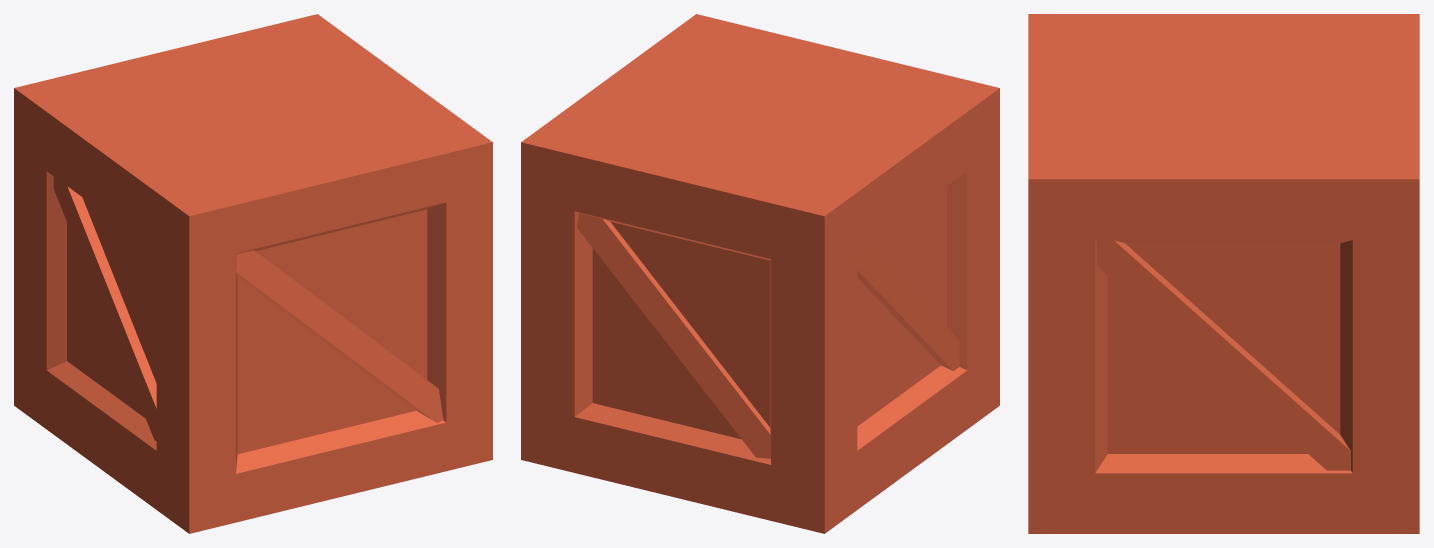
File: Crate.fbx
3 views of the same model, side by side, from view 1: azimuth 30°, elevation 25°; view 2: azimuth 150°, elevation 25°; view 3: azimuth 270°, elevation 25° (orthographic). The views are drawn at different scales.
Visible parts, largest first — view 1: Cube; view 2: Cube; view 3: Cube.
Part boxes in pixels (<box>): Cube: <box>14,14,492,533</box>; Cube: <box>521,14,999,533</box>; Cube: <box>1028,14,1419,533</box>.
Size of the model in its own units: 200 by 200 by 200.
